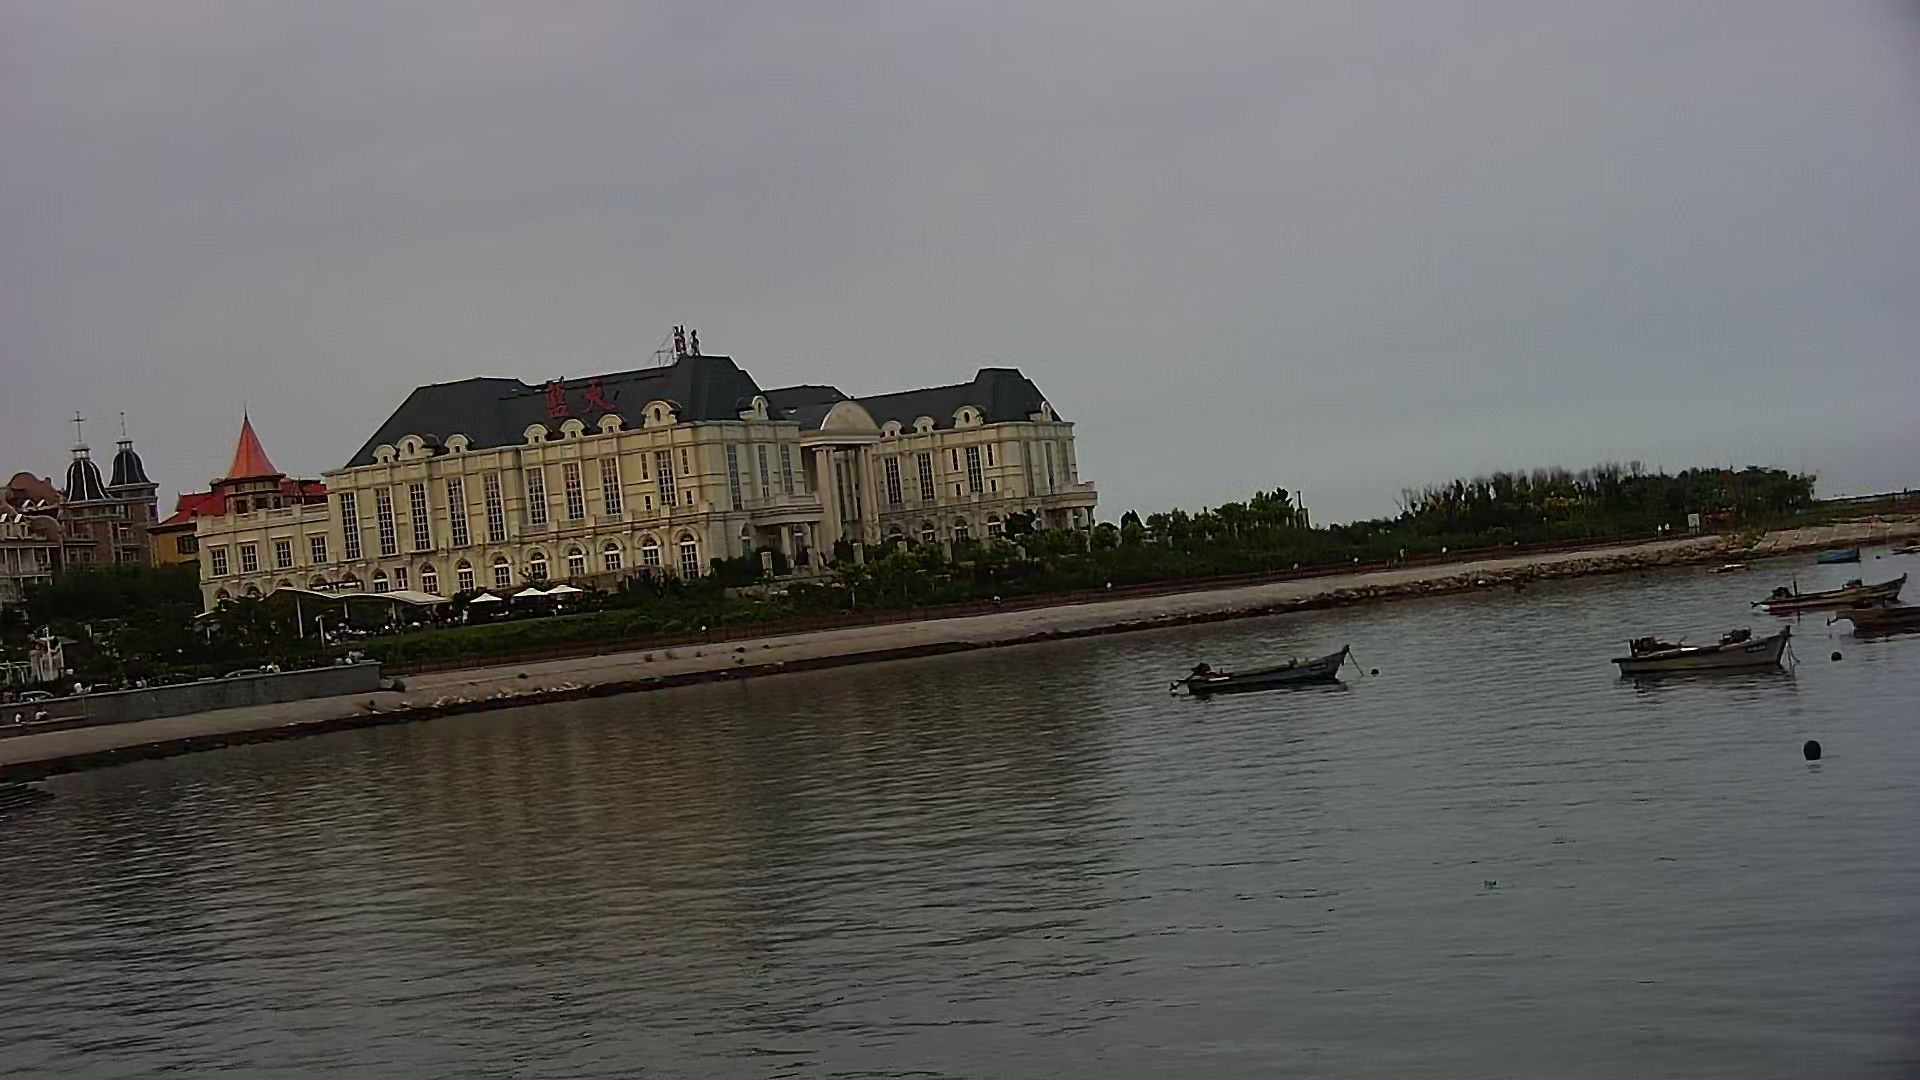ball: (1801, 736, 1832, 769)
boat: (1609, 618, 1800, 699), (1167, 632, 1360, 702), (1758, 578, 1908, 611)
